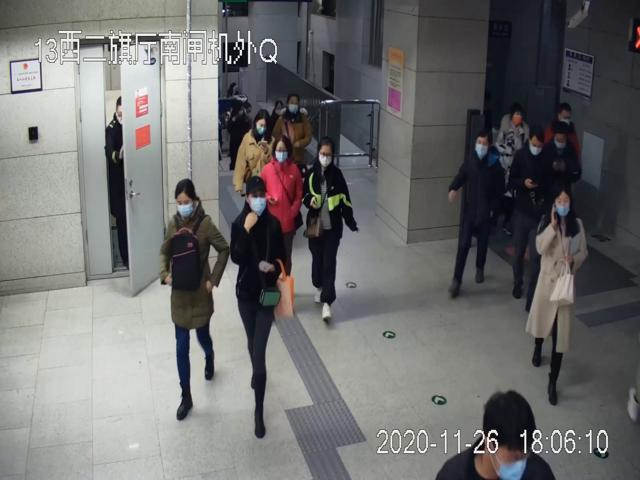person: (161, 178, 229, 420), (231, 177, 288, 440), (527, 188, 589, 406), (302, 137, 358, 321), (447, 115, 503, 294), (512, 126, 549, 315), (260, 134, 302, 287), (233, 108, 277, 216), (274, 96, 314, 163)
